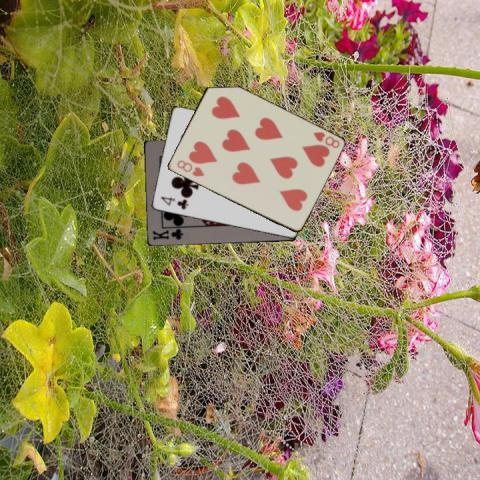4c: (158, 194, 190, 211)
8h: (174, 157, 206, 178), (310, 129, 341, 150)
Kc: (149, 227, 184, 241)
